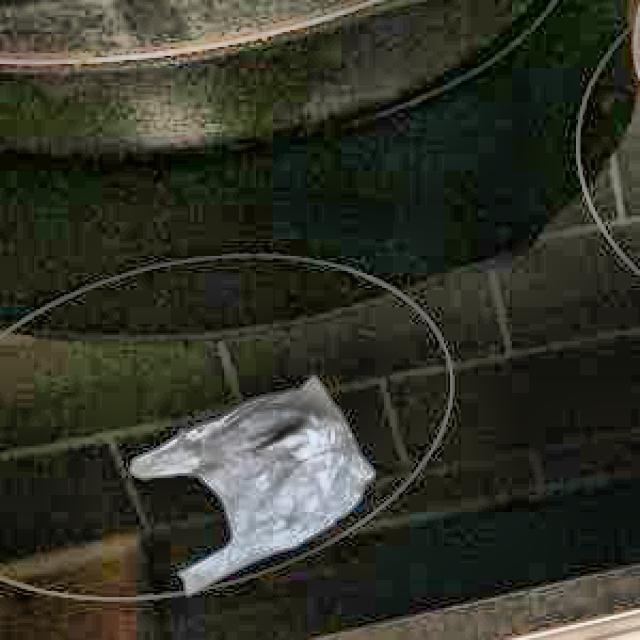Plastic: (130, 374, 397, 606)
